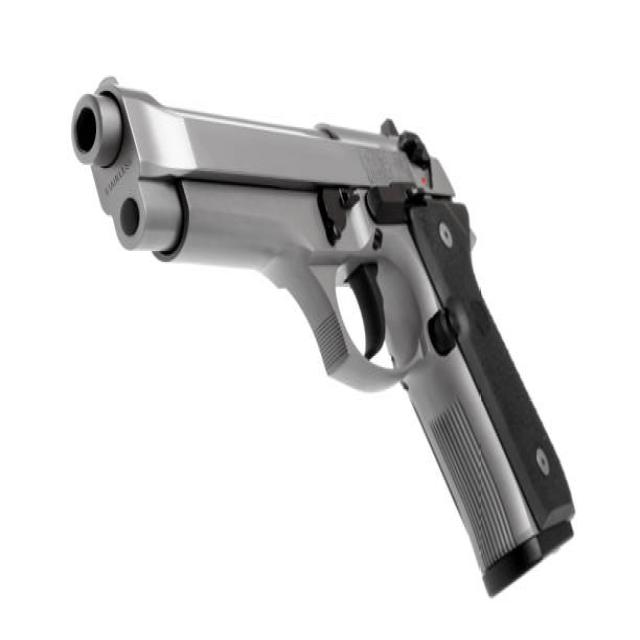pistol: (59, 73, 585, 604)
